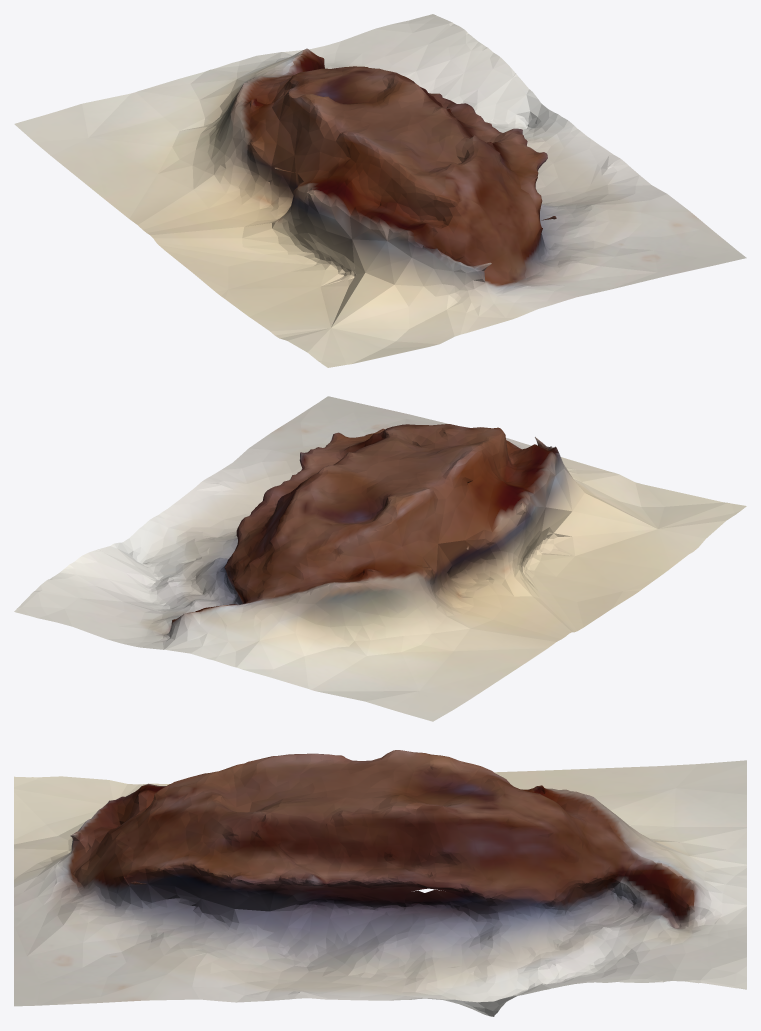
Rendered from Scaniverse_2022_05_15_173131.obj.
3 views of the same model, one above another, from view 1: azimuth 30°, elevation 25°; view 2: azimuth 150°, elevation 25°; view 3: azimuth 270°, elevation 25° (orthographic). The views are drawn at different scales.
Visible parts, largest first — view 1: mesh; view 2: mesh; view 3: mesh.
Part boxes in pixels (<box>): mesh: <box>14,14,746,367</box>; mesh: <box>14,396,746,721</box>; mesh: <box>14,750,746,1016</box>.
Size of the model in its own units: 0.1857 by 0.0456 by 0.2411.
Materials: 1 (1 with a texture image).
